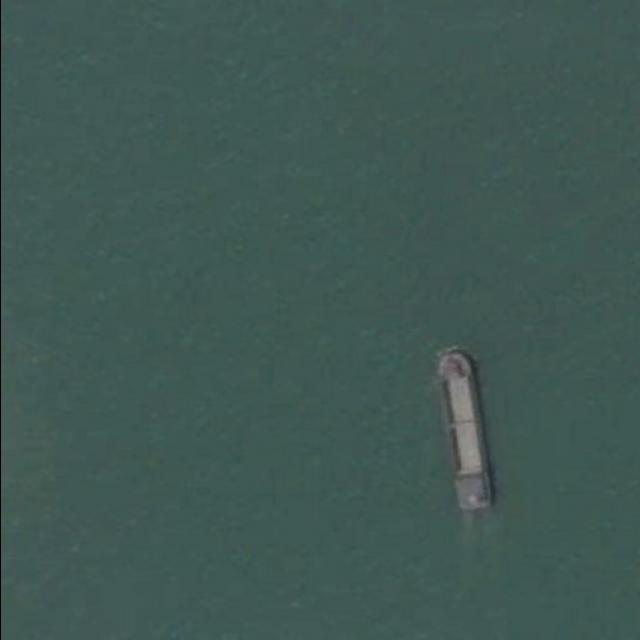ship: (432, 347, 495, 512)
